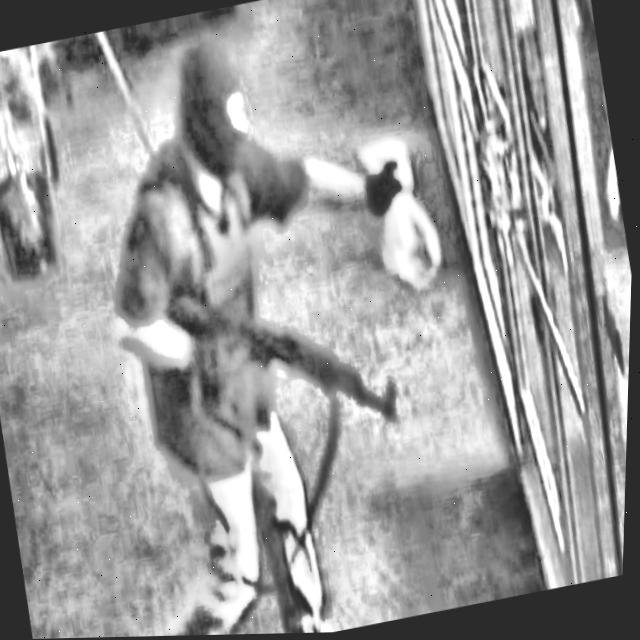robbery: (107, 28, 456, 636)
